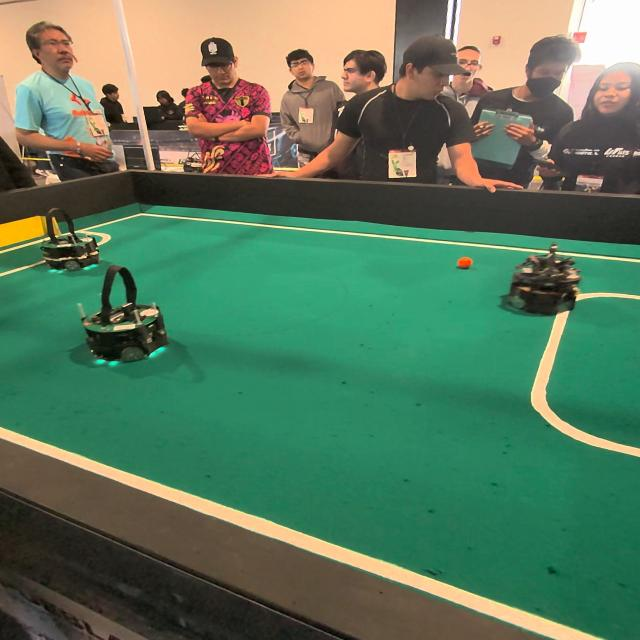Robot: (71, 259, 177, 374), (508, 244, 586, 319), (38, 209, 106, 281)
pelota: (456, 255, 474, 268)
